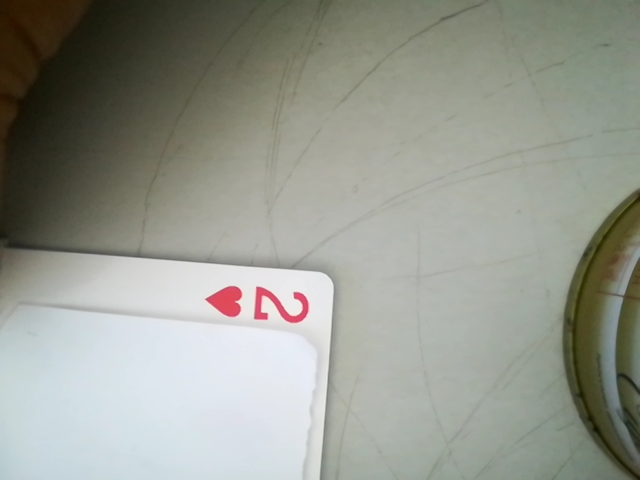hx 2: (203, 277, 322, 329)
